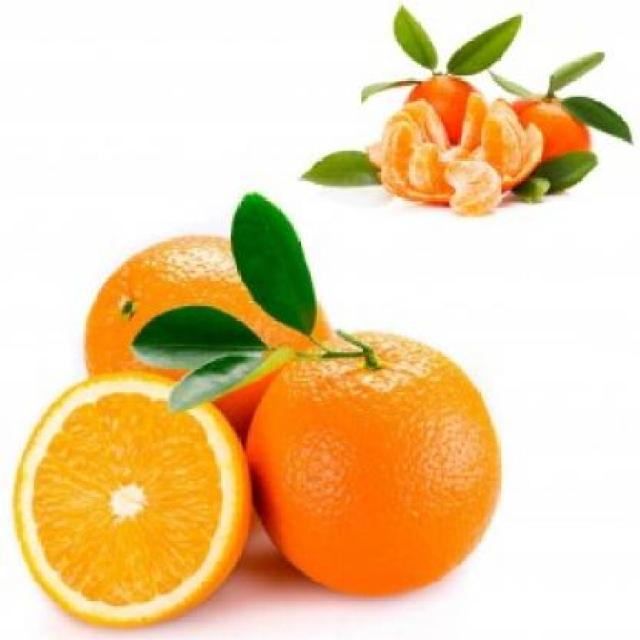Orange: (244, 328, 502, 597), (81, 231, 332, 432)
